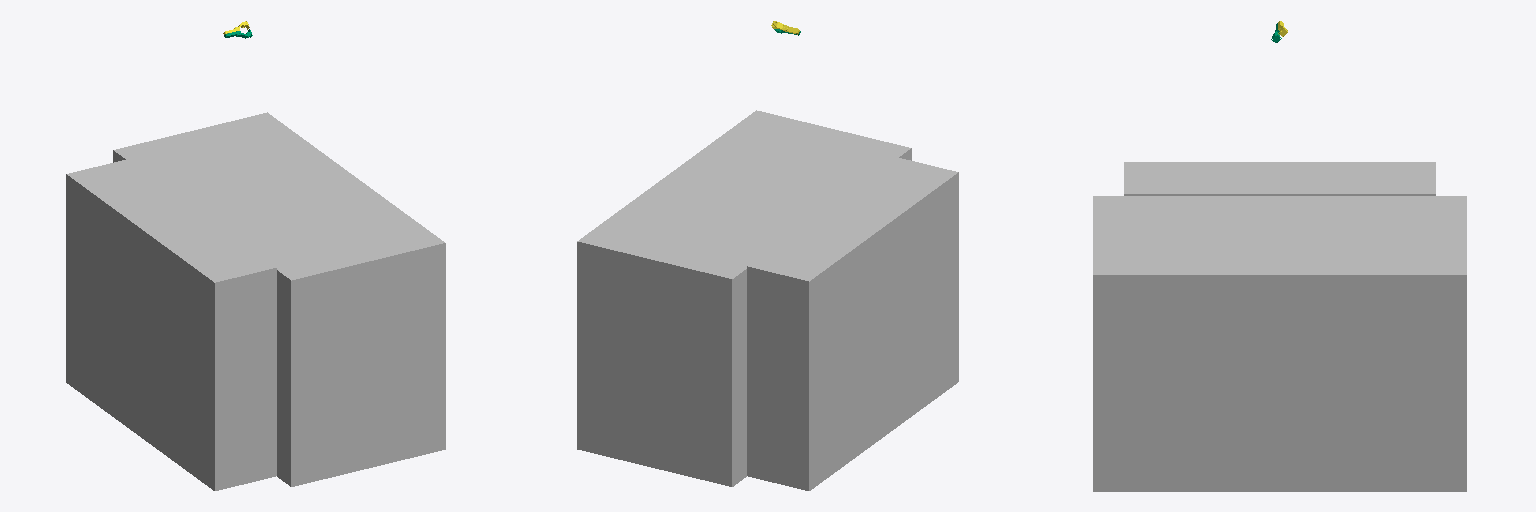
URDF robot description (panda):
<?xml version="1.0" encoding="utf-8"?>
<!-- =================================================================================== -->
<!-- |    This document was autogenerated by xacro from panda_arm_hand.urdf.xacro      | -->
<!-- |    EDITING THIS FILE BY HAND IS NOT RECOMMENDED                                 | -->
<!-- =================================================================================== -->
<robot name="panda">
  <link name="panda_link0">
    <visual>
      <geometry>
        <mesh filename="package://franka_description/meshes/visual/link0.dae"/>
      </geometry>
    </visual>
    <collision>
      <geometry>
        <mesh filename="package://franka_description/meshes/visual/link0.dae"/>
      </geometry>
    </collision>
  </link>

  <link name="panda_link1">
    <visual>
      <geometry>
        <mesh filename="package://franka_description/meshes/visual/link1.dae"/>
      </geometry>
    </visual>
    <collision>
      <geometry>
        <mesh filename="package://franka_description/meshes/visual/link1.dae"/>
      </geometry>
    </collision>
  </link>

  <joint name="panda_joint1" type="revolute">
    <safety_controller k_position="100.0" k_velocity="40.0" soft_lower_limit="-2.8973" soft_upper_limit="2.8973"/>
    <origin rpy="0 0 0" xyz="0 0 0.333"/>
    <parent link="panda_link0"/>
    <child link="panda_link1"/>
    <axis xyz="0 0 1"/>
    <limit effort="87" lower="-2.8973" upper="2.8973" velocity="2.1750"/>
  </joint>

  <link name="panda_link2">
    <visual>
      <geometry>
        <mesh filename="package://franka_description/meshes/visual/link2.dae"/>
      </geometry>
    </visual>
    <collision>
      <geometry>
        <mesh filename="package://franka_description/meshes/visual/link2.dae"/>
      </geometry>
    </collision>
  </link>

  <joint name="panda_joint2" type="revolute">
    <safety_controller k_position="100.0" k_velocity="40.0" soft_lower_limit="-1.7628" soft_upper_limit="1.7628"/>
    <origin rpy="-1.57079632679 0 0" xyz="0 0 0"/>
    <parent link="panda_link1"/>
    <child link="panda_link2"/>
    <axis xyz="0 0 1"/>
    <limit effort="87" lower="-1.7628" upper="1.7628" velocity="2.1750"/>
  </joint>
  <link name="panda_link3">
    <visual>
      <geometry>
        <mesh filename="package://franka_description/meshes/visual/link3.dae"/>
      </geometry>
    </visual>
    <collision>
      <geometry>
        <mesh filename="package://franka_description/meshes/visual/link3.dae"/>
      </geometry>
    </collision>
  </link>

  <joint name="panda_joint3" type="revolute">
    <safety_controller k_position="100.0" k_velocity="40.0" soft_lower_limit="-2.8973" soft_upper_limit="2.8973"/>
    <origin rpy="1.57079632679 0 0" xyz="0 -0.316 0"/>
    <parent link="panda_link2"/>
    <child link="panda_link3"/>
    <axis xyz="0 0 1"/>
    <limit effort="87" lower="-2.8973" upper="2.8973" velocity="2.1750"/>
  </joint>
  <link name="panda_link4">
    <visual>
      <geometry>
        <mesh filename="package://franka_description/meshes/visual/link4.dae"/>
      </geometry>
    </visual>
    <collision>
      <geometry>
        <mesh filename="package://franka_description/meshes/visual/link4.dae"/>
      </geometry>
    </collision>
  </link>

  <joint name="panda_joint4" type="revolute">
    <safety_controller k_position="100.0" k_velocity="40.0" soft_lower_limit="-3.0718" soft_upper_limit="-0.0698"/>
    <origin rpy="1.57079632679 0 0" xyz="0.0825 0 0"/>
    <parent link="panda_link3"/>
    <child link="panda_link4"/>
    <axis xyz="0 0 1"/>
    <limit effort="87" lower="-3.0718" upper="-0.0698" velocity="2.1750"/>
  </joint>

  <link name="panda_link5">
    <visual>
      <geometry>
        <mesh filename="package://franka_description/meshes/visual/link5.dae"/>
      </geometry>
    </visual>
    <collision>
      <geometry>
        <mesh filename="package://franka_description/meshes/visual/link5.dae"/>
      </geometry>
    </collision>
  </link>

  <joint name="panda_joint5" type="revolute">
    <safety_controller k_position="100.0" k_velocity="40.0" soft_lower_limit="-2.8973" soft_upper_limit="2.8973"/>
    <origin rpy="-1.57079632679 0 0" xyz="-0.0825 0.384 0"/>
    <parent link="panda_link4"/>
    <child link="panda_link5"/>
    <axis xyz="0 0 1"/>
    <limit effort="12" lower="-2.8973" upper="2.8973" velocity="2.6100"/>
  </joint>

  <link name="panda_link6">
    <visual>
      <geometry>
        <mesh filename="package://franka_description/meshes/visual/link6.dae"/>
      </geometry>
    </visual>
    <collision>
      <geometry>
        <mesh filename="package://franka_description/meshes/visual/link6.dae"/>
      </geometry>
    </collision>
  </link>

  <joint name="panda_joint6" type="revolute">
    <safety_controller k_position="100.0" k_velocity="40.0" soft_lower_limit="-0.0175" soft_upper_limit="3.7525"/>
    <origin rpy="1.57079632679 0 0" xyz="0 0 0"/>
    <parent link="panda_link5"/>
    <child link="panda_link6"/>
    <axis xyz="0 0 1"/>
    <limit effort="12" lower="-0.0175" upper="3.7525" velocity="2.6100"/>
  </joint>

  <link name="panda_link7">
    <visual>
      <geometry>
        <mesh filename="package://franka_description/meshes/visual/link7.dae"/>
      </geometry>
    </visual>
    <collision>
      <geometry>
        <mesh filename="package://franka_description/meshes/visual/link7.dae"/>
      </geometry>
    </collision>
  </link>

  <joint name="panda_joint7" type="revolute">
    <safety_controller k_position="100.0" k_velocity="40.0" soft_lower_limit="-2.8973" soft_upper_limit="2.8973"/>
    <origin rpy="1.57079632679 0 0" xyz="0.088 0 0"/>
    <parent link="panda_link6"/>
    <child link="panda_link7"/>
    <axis xyz="0 0 1"/>
    <limit effort="12" lower="-2.8973" upper="2.8973" velocity="2.6100"/>
  </joint>

  <link name="panda_link8"/>
  <joint name="panda_joint8" type="fixed">
    <origin rpy="0 0 0" xyz="0 0 0.107"/>
    <parent link="panda_link7"/>
    <child link="panda_link8"/>
  </joint>
  <joint name="panda_hand_joint" type="fixed">
    <parent link="panda_link8"/>
    <child link="panda_hand"/>
    <origin rpy="0 0 -0.785398163397" xyz="0 0 0"/>
  </joint>
  <link name="panda_hand">
    <visual>
      <geometry>
        <mesh filename="package://franka_description/meshes/visual/hand.dae"/>
      </geometry>
    </visual>
    <collision>
      <origin rpy="0 0 0" xyz="0 0.0 0"/>
      <geometry>
        <mesh filename="package://franka_description/meshes/visual/hand.dae"/>
      </geometry>
    </collision>
  </link>

  <link name="panda_leftfinger">
    <visual>
      <geometry>
        <mesh filename="package://ocrtoc_task/config/meshes/finger.dae"/>
      </geometry>
    </visual>
    <collision>
      <geometry>
        <mesh filename="package://ocrtoc_task/config/meshes/finger.dae"/>
      </geometry>
    </collision>
  </link>
  <link name="panda_rightfinger">
    <visual>
      <origin rpy="0 0 3.14159265359" xyz="0 0 0"/>
      <geometry>
        <mesh filename="package://ocrtoc_task/config/meshes/finger.dae"/>
      </geometry>
    </visual>
    <collision>
      <origin rpy="0 0 3.14159265359" xyz="0 0 0"/>
      <geometry>
        <mesh filename="package://ocrtoc_task/config/meshes/finger.dae"/>
      </geometry>
    </collision>
  </link>
  <joint name="panda_finger_joint1" type="prismatic">
    <parent link="panda_hand"/>
    <child link="panda_leftfinger"/>
    <origin rpy="0 0 0" xyz="0 0 0.0584"/>
    <axis xyz="0 1 0"/>
    <limit effort="20" lower="0.0" upper="0.04" velocity="0.2"/>
  </joint>
  <joint name="panda_finger_joint2" type="prismatic">
    <parent link="panda_hand"/>
    <child link="panda_rightfinger"/>
    <origin rpy="0 0 0" xyz="0 0 0.0584"/>
    <axis xyz="0 -1 0"/>
    <limit effort="20" lower="0.0" upper="0.04" velocity="0.2"/>
    <mimic joint="panda_finger_joint1"/>
  </joint>

  <joint name="realsense_camera_joint" type="fixed">
    <origin rpy="-0.348 -1.564 -2.784" xyz="0.051 -0.019 0.059"/>
    <parent link="panda_hand"/>
    <child link="realsense_link"/>
  </joint>

  <link name="realsense_link">
    <visual>
      <!-- the mesh origin is at front plate in between the two infrared camera axes -->
      <origin rpy="1.57079632679 0 1.57079632679" xyz="0.0 -0.0 0"/>
      <geometry>
        <!-- <box size="${d435_cam_width} ${d435_cam_height} ${d435_cam_depth}"/> -->
        <mesh filename="package://realsense2_description/meshes/d435.dae" />
      </geometry>
      <material name="DarkGrey">
        <color rgba="0.3 0.3 0.3 1.0"/>
      </material>
    </visual>
    <collision>
      <origin rpy="0 0 0" xyz="0 -0.0175 0"/>
      <geometry>
        <box size="0.02505 0.09 0.025"/>
      </geometry>
    </collision>
    <inertial>
      <!-- The following are not reliable values, and should not be used for modeling -->
      <mass value="0.072"/>
      <origin xyz="0 0 0"/>
      <inertia ixx="0.003881243" ixy="0.0" ixz="0.0" iyy="0.000498940" iyz="0.0" izz="0.003879257"/>
    </inertial>
  </link>

  <joint name="realsense_optical_joint" type="fixed">
    <origin rpy="-1.571 0 -1.571" xyz="0.0 0.015 0.0"/>
    <parent link="realsense_link"/>
    <child link="realsense_color_optical_frame"/>
  </joint>

  <joint name="realsense_fake_joint" type="fixed">
    <origin rpy="0.0 0.0 0.0" xyz="0.0 0.015 0.0"/>
    <parent link="realsense_link"/>
    <child link="realsense_camera_frame"/>
  </joint>

  <link name="realsense_camera_frame">
    <inertial>
      <mass value="1e-6"/>
      <origin rpy="0 0 0" xyz="0.0 0.0 0.0"/>
      <inertia ixx="1e-6" ixy="0.0" ixz="0.0" iyy="1e-6" iyz="0.0" izz="1e-6"/>
    </inertial>
  </link>

  <link name="realsense_color_optical_frame">
    <inertial>
      <mass value="1e-6"/>
      <origin rpy="0 0 0" xyz="0.0 0.0 0.0"/>
      <inertia ixx="1e-6" ixy="0.0" ixz="0.0" iyy="1e-6" iyz="0.0" izz="1e-6"/>
    </inertial>
  </link>

  <joint name="realsense_rgb2depth_virtual_joint" type="fixed">
    <origin rpy="0.0 0.0 0.0" xyz="0.0 0.0 0.0"/>
    <parent link="realsense_color_optical_frame"/>
    <child link="realsense_depth_optical_frame"/>
  </joint>

  <link name="realsense_depth_optical_frame"></link>

  <joint name="panda_hand_to_tool" type="fixed">
    <origin rpy="-0 0 0" xyz="0.0 0.0 0.145"/>
    <parent link="panda_hand"/>
    <child link="tool"/>
  </joint>

  <link name="tool">
    <inertial>
      <mass value="1e-6"/>
      <origin rpy="0 0 0" xyz="0.0 0.0 0.0"/>
      <inertia ixx="1e-6" ixy="0.0" ixz="0.0" iyy="1e-6" iyz="0.0" izz="1e-6"/>
    </inertial>
  </link>

  <joint name="world_link" type="fixed">
    <origin rpy="0.0 0.0 0.0" xyz="0.42 0.0 0.0"/>
    <parent link="panda_link0"/>
    <child link="world"/>
  </joint>

  <link name="world"></link>

  <material name="grey">
    <color rgba="0.8 0.8 0.8 1"/>
  </material>

  <link name="table">
    <visual>
      <geometry>
        <mesh filename="package://ocrtoc_task/config/meshes/table/visual/table.dae"/>
      </geometry>
      <material name="grey"/>
    </visual>
    <collision>
      <geometry>
        <mesh filename="package://ocrtoc_task/config/meshes/table/collision/table.obj"/>
      </geometry>
    </collision>
  </link>

  <joint name="table_joint" type="fixed">
    <parent link="world"/>
    <child link="table"/>
    <origin xyz="0.0 0.0 -0.39" rpy="0.0 0.0 0.0"/>
  </joint>

  <joint name="panda_ee_link_joint" type="fixed">
    <origin rpy="0.0 0.0 -0.785" xyz="0.0 0.0 0.15"/>
    <parent link="panda_link8"/>
    <child link="panda_ee_link"/>
  </joint>

  <link name="panda_ee_link"></link>
  <!-- If the transformation is changed, the transformation should also be modifiedin ros_interface.py -->
  <joint name="kinect_camera_joint" type="fixed">
    <origin rpy="0.013071139211061986 0.5349760001576646 3.1415926535897" xyz="1.336 0.006 0.692"/>
    <parent link="panda_link0"/>
    <child link="opengl_rgb_camera_link"/>
  </joint>

  <link name="opengl_rgb_camera_link"></link>

  <joint name="kinect_opengl_virtual_joint" type="fixed">
    <origin rpy="-1.571 0 -1.571" xyz="0.0 0.0 0.0"/>
    <parent link="opengl_rgb_camera_link"/>
    <child link="rgb_camera_link"/>
  </joint>

  <link name="rgb_camera_link"></link>

  <joint name="kinect_rgb2depth_virtual_joint" type="fixed">
    <origin rpy="0.0 0.0 0.0" xyz="0.0 0.0 0.0"/>
    <parent link="rgb_camera_link"/>
    <child link="depth_camera_link"/>
  </joint>
  <link name="depth_camera_link"></link>
</robot>

--- Render facts (derived) ---
Views: 3 orthographic renders of the robot side by side, from view 1: azimuth 30°, elevation 25°; view 2: azimuth 150°, elevation 25°; view 3: azimuth 270°, elevation 25°.
Robot: panda — 23 links, 22 joints (7 revolute, 2 prismatic, 13 fixed); root link panda_link0; default pose: joints at zero except 1 at the middle of their limits (panda_joint4 = -1.57).
Links seen in each view (by area): view 1: table; view 2: table; view 3: table.
Link boxes in pixels (x1,y1,x2,y2): table: (66, 112, 445, 490); table: (577, 110, 958, 490); table: (1093, 162, 1466, 491).
Bounding box of the posed robot: 0.84 × 1.2 × 1.45 m (x, y, z).
3 mesh visuals loaded from 12 distinct referenced files (2 Collada DAE); not drawn: 10 (reference not matched to a file when rendering).